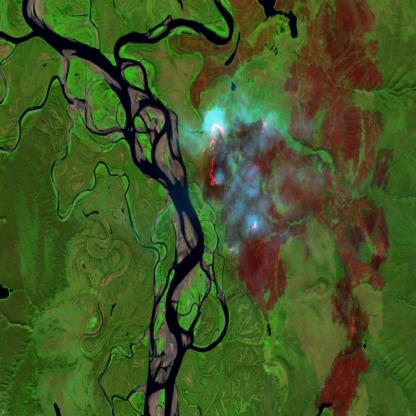fire: (198, 108, 271, 196)
